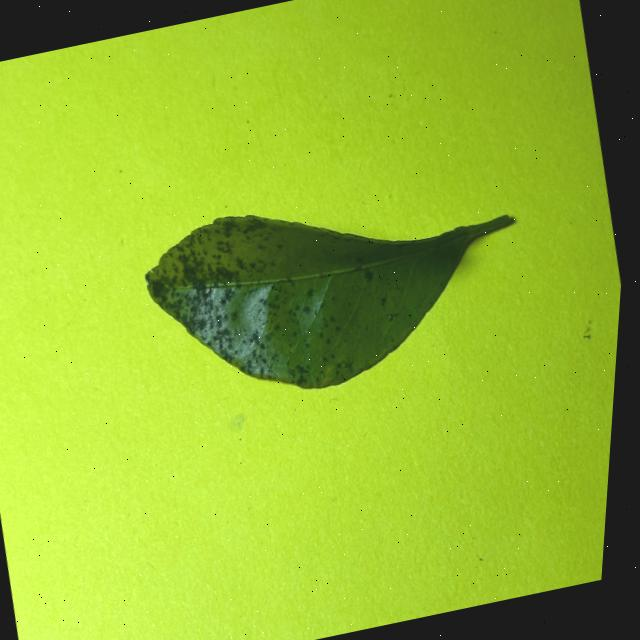sooty_mold: (145, 214, 513, 387)
